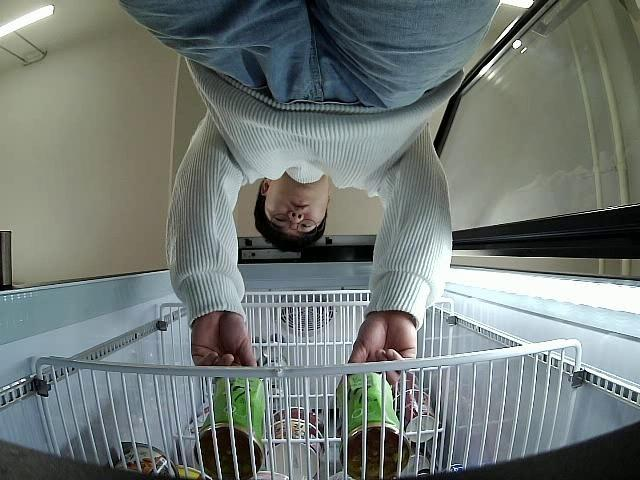19_17cha: (337, 370, 410, 480), (193, 373, 266, 480)
